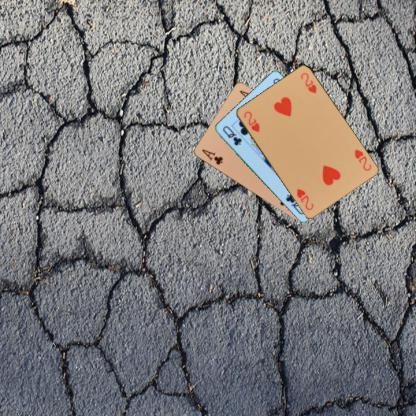2h: (351, 147, 372, 172), (241, 108, 261, 134)
Ac: (199, 147, 224, 166)
Qc: (220, 123, 242, 147)
